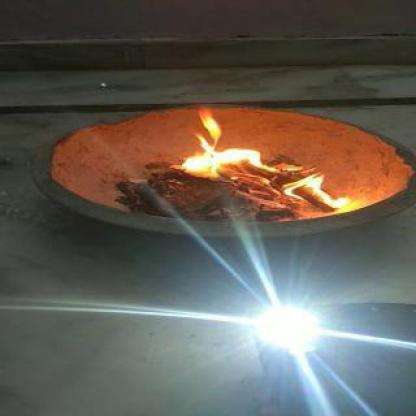Fire: (178, 107, 350, 216)
